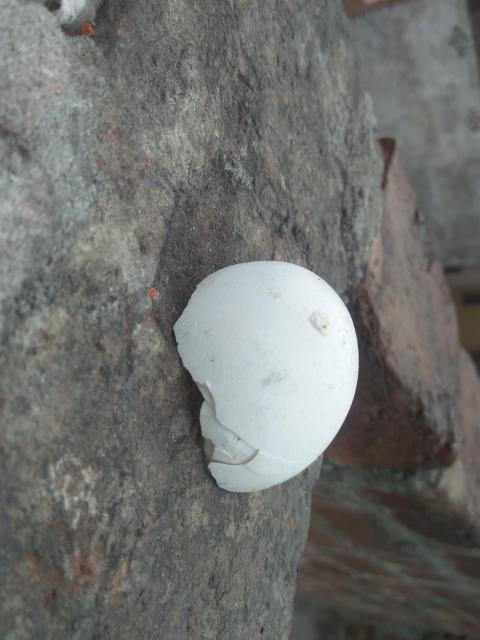Roto: (171, 259, 360, 494)
